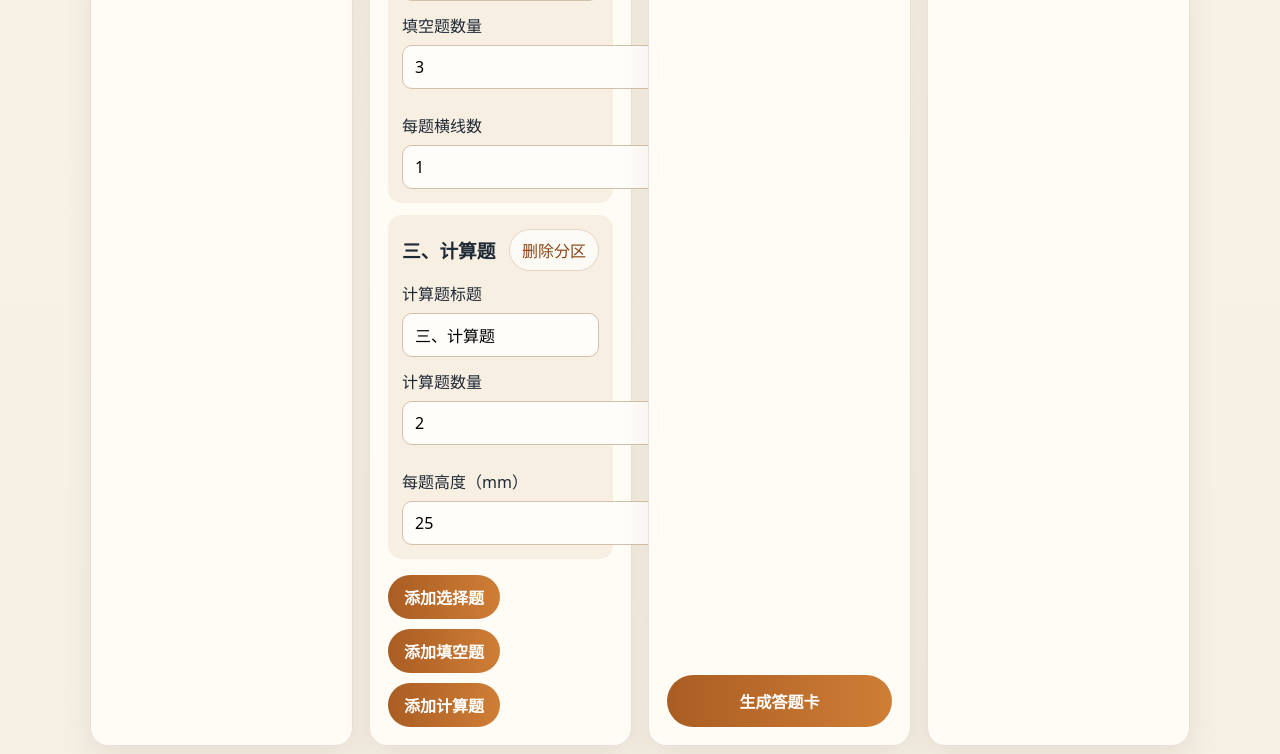
Test case: shows download links after successful submission
This screenshot has width=1280, height=754.
(page scrolled)
What coordinates should you click on to do the following:
click the button "生成答题卡"
I would click on:
 (780, 701)
Its box is x1=667 y1=675 x2=892 y2=727.
(page scrolled)
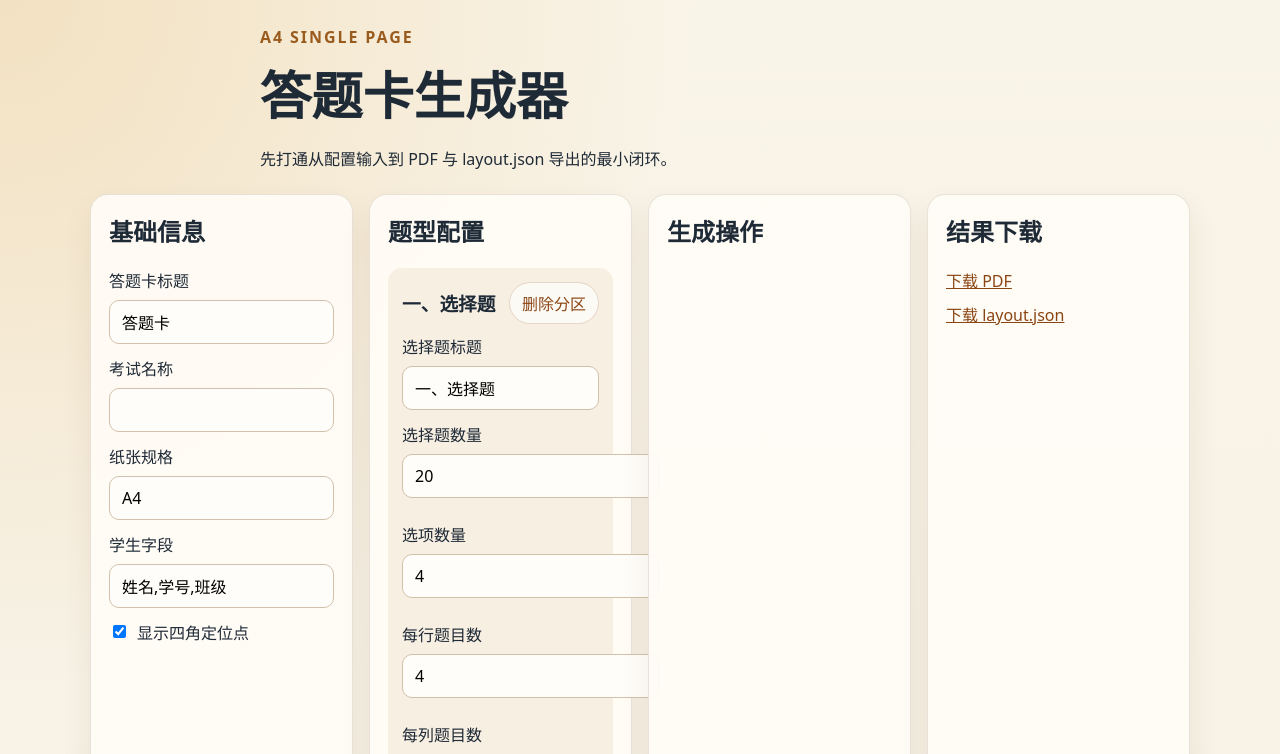
Check: the link "下载 PDF" is shown, box x1=946 y1=270 x2=1012 y2=292
Check: the link "下载 layout.json" is shown, box x1=946 y1=304 x2=1064 y2=326
